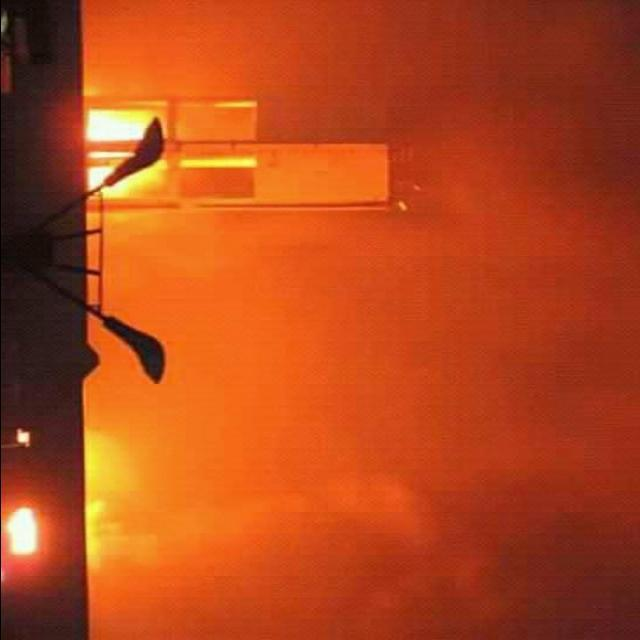Fire: (82, 438, 242, 572), (84, 99, 245, 232)
